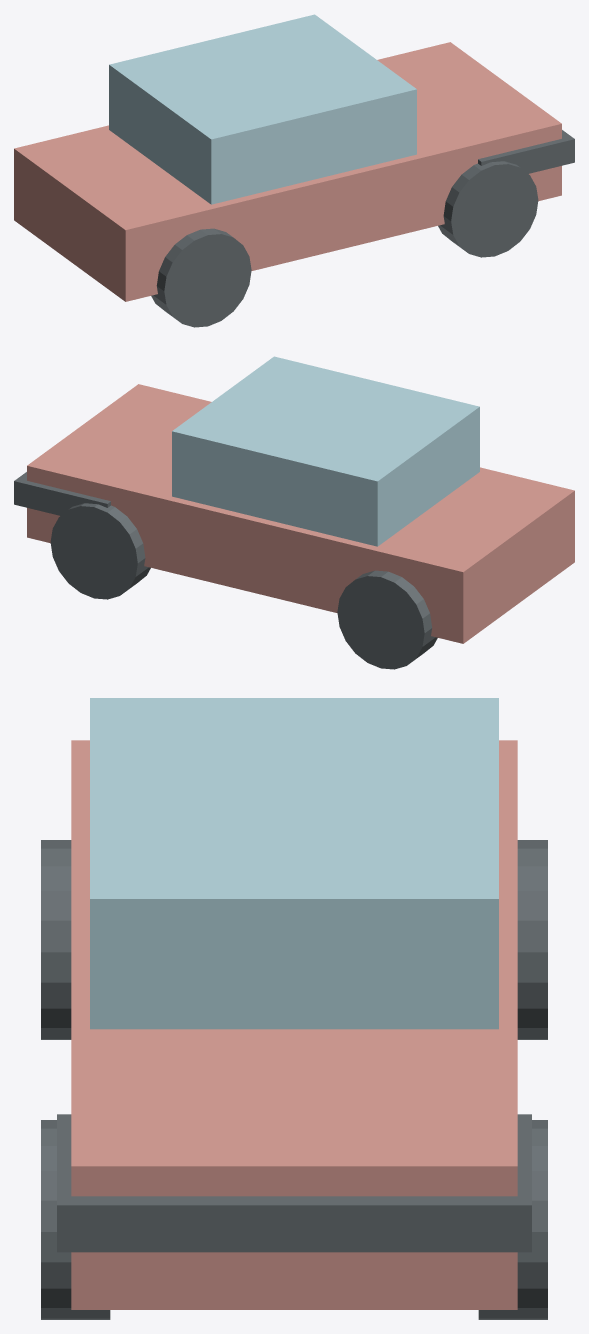
File: sport_car_display.glb
3 renders of one model, top to bottom at view 1: azimuth 30°, elevation 25°; view 2: azimuth 150°, elevation 25°; view 3: azimuth 270°, elevation 25°, orthographic. The views are drawn at different scales.
Parts seen in each view (by area): view 1: part_00, part_01, part_04, part_06, part_02; view 2: part_00, part_01, part_03, part_05, part_02; view 3: part_01, part_00, part_02, part_03, part_04, part_05, part_06.
Part boxes in pixels (bbox=[...]): part_00: bbox=[14, 42, 561, 301]; part_01: bbox=[109, 14, 416, 204]; part_04: bbox=[151, 228, 251, 327]; part_06: bbox=[438, 161, 538, 257]; part_02: bbox=[478, 130, 574, 173]; part_00: bbox=[27, 384, 574, 643]; part_01: bbox=[172, 356, 479, 546]; part_03: bbox=[337, 570, 437, 669]; part_05: bbox=[50, 503, 150, 599]; part_02: bbox=[14, 472, 110, 515]; part_01: bbox=[90, 698, 498, 1029]; part_00: bbox=[71, 740, 517, 1309]; part_02: bbox=[57, 1114, 531, 1252]; part_03: bbox=[517, 840, 547, 1039]; part_04: bbox=[41, 840, 71, 1039]; part_05: bbox=[478, 1120, 547, 1319]; part_06: bbox=[41, 1120, 110, 1319].
Bounding box in the file's own units: 3.58 × 1.34 × 1.76.
